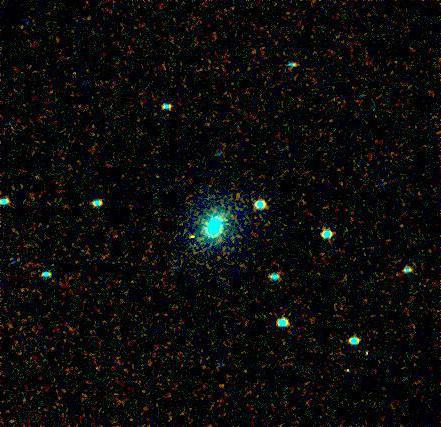star: (178, 221, 208, 251)
